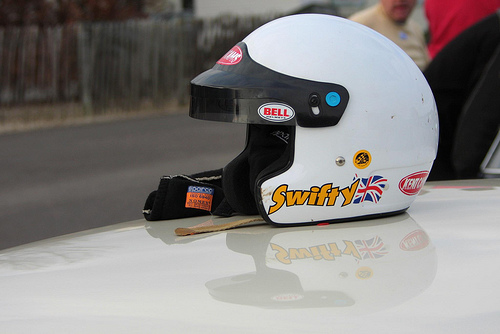helmet: (220, 15, 443, 220)
